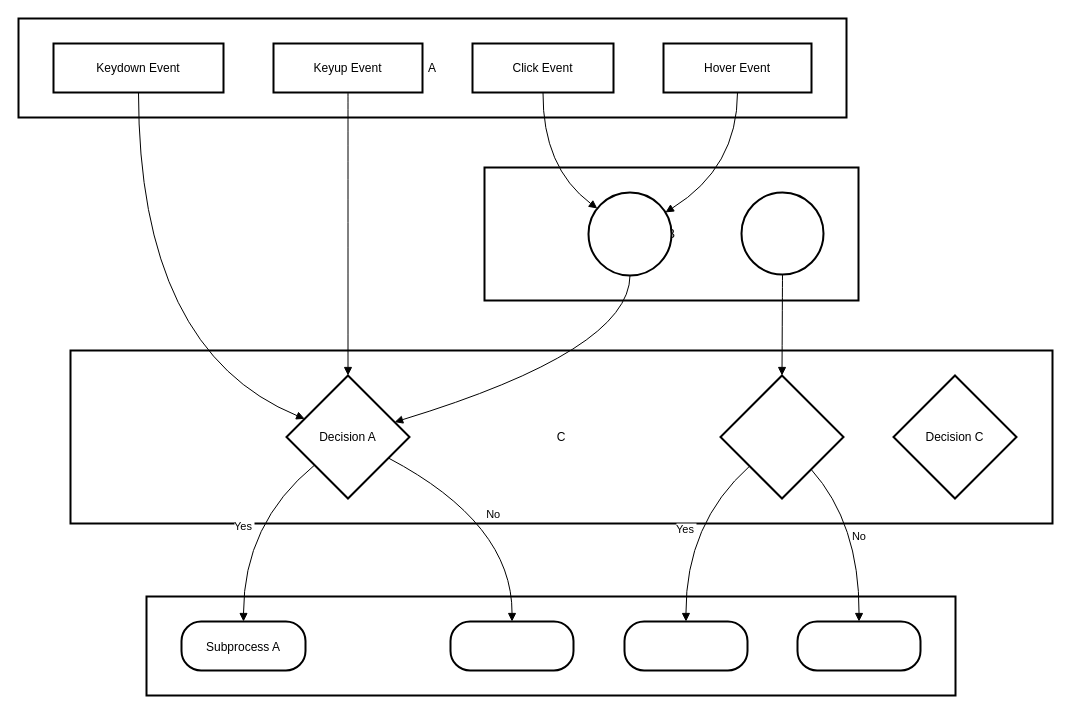
Some shapes in this 1070 by 713 pixel diagram are drawn without their labels. Each missing label, with the centre of its shape:
Decision B: the point at 781,436
Process A: the point at 629,233
Process B: the point at 782,233
Subprocess B: the point at 511,645
Subprocess C: the point at 685,645
Subprocess D: the point at 858,645
